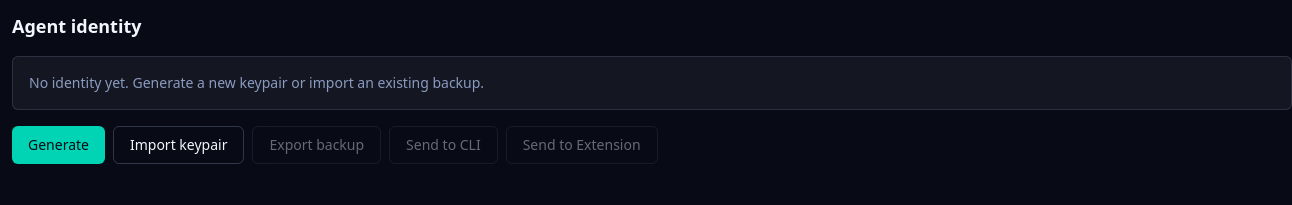
it: IdentityPanel › renders_did_after_generate
Click the button with test id "identity-generate".
click(58, 145)  # box [12,126,105,164]
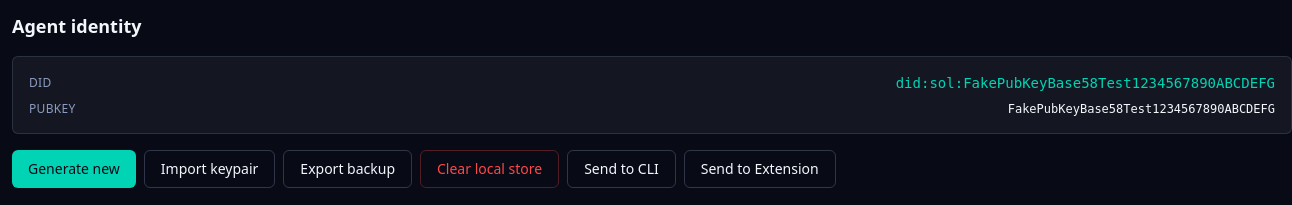
Expected: the text with test id "identity-did" reads "did:sol:FakePubKeyBase58Test1234567890ABCDEFG", [896,73,1275,93]
Expected: the text with test id "identity-pubkey" reads "FakePubKeyBase58Test1234567890ABCDEFG", [1008,102,1275,116]
